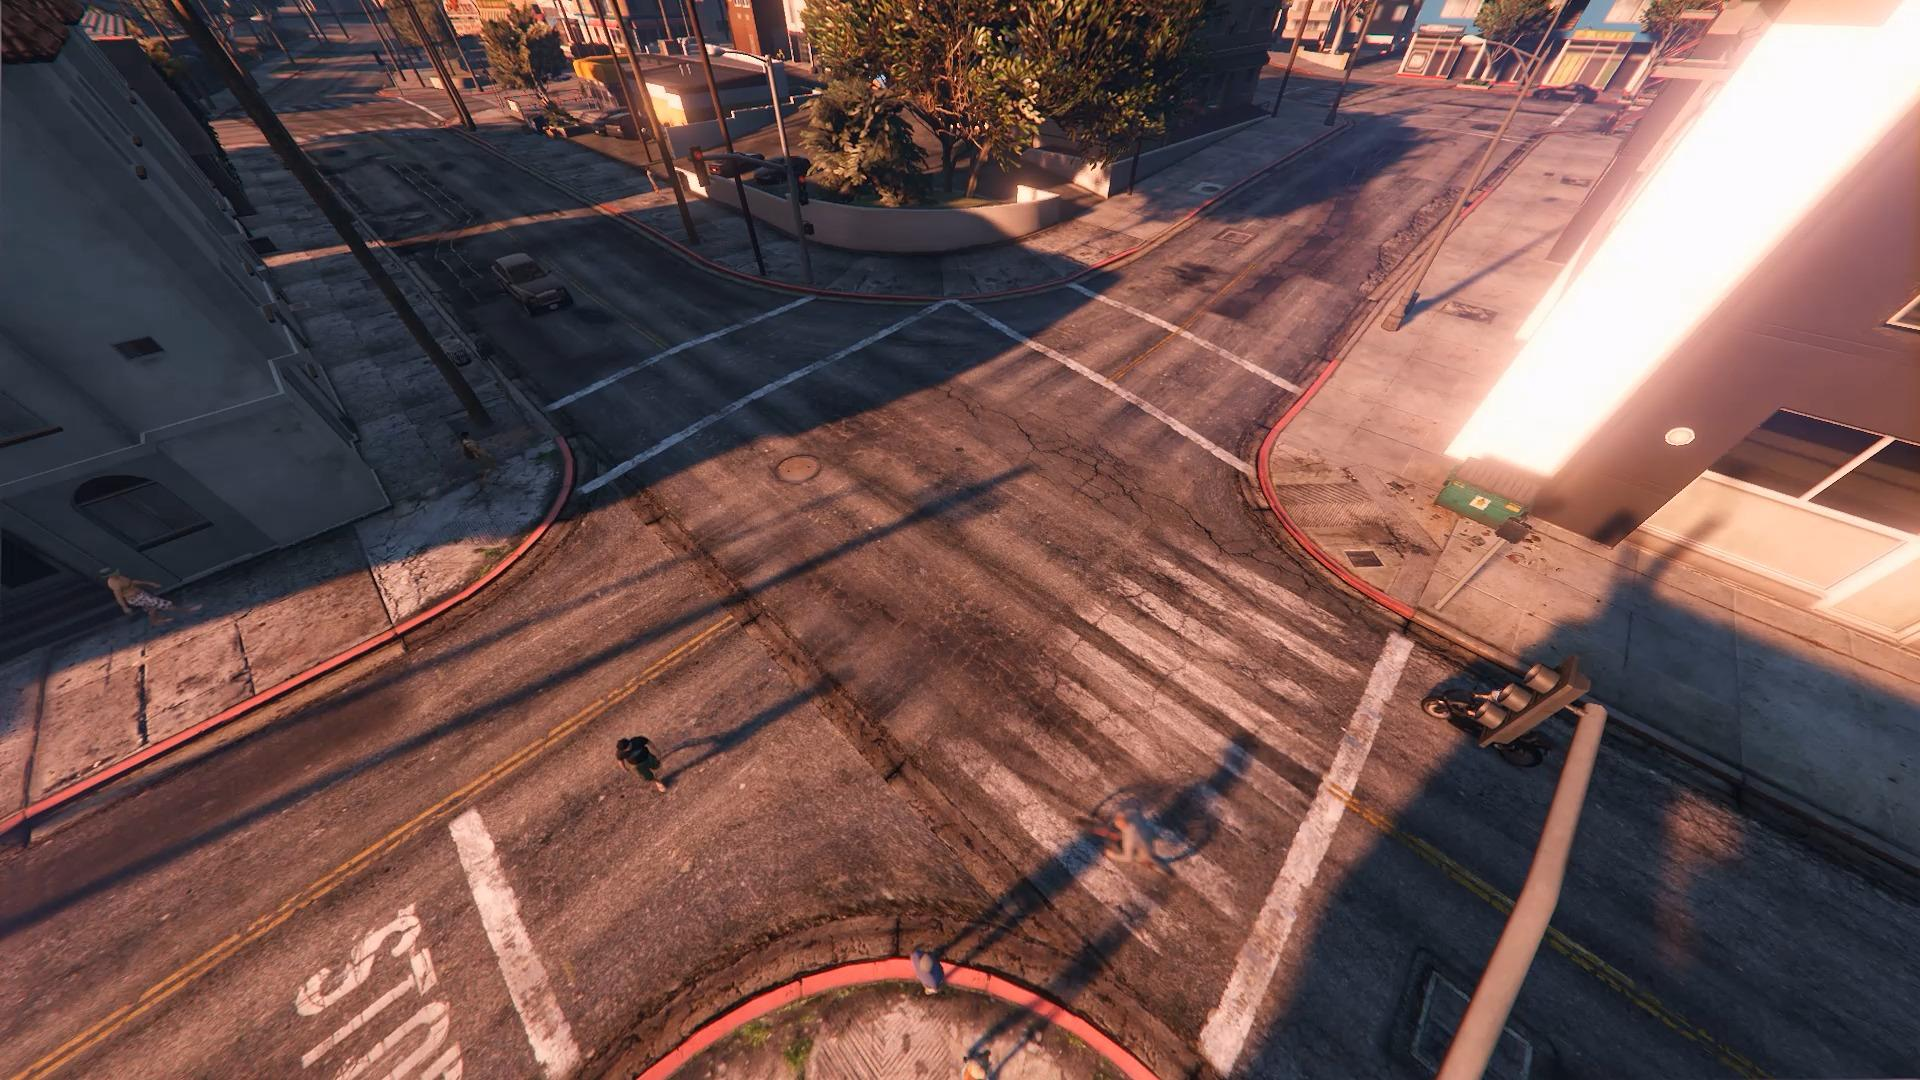car: (1420, 682, 1553, 771), (492, 252, 572, 315), (1530, 79, 1597, 104)
